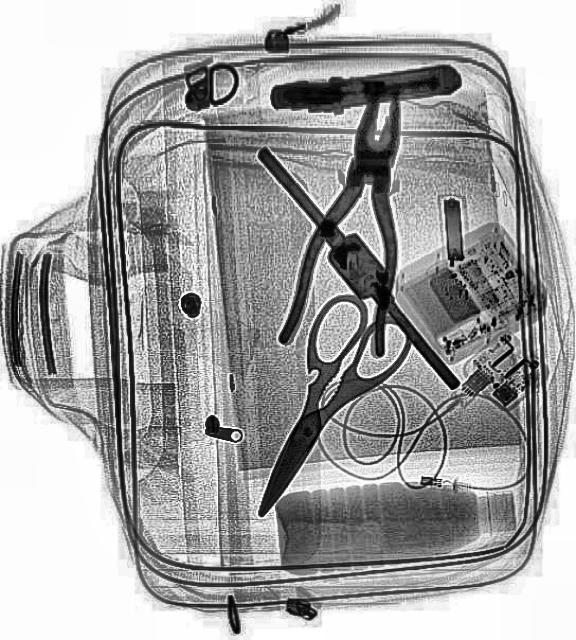Gun: (268, 62, 464, 120)
Pliers: (274, 76, 439, 364)
Scissors: (216, 282, 420, 538)
